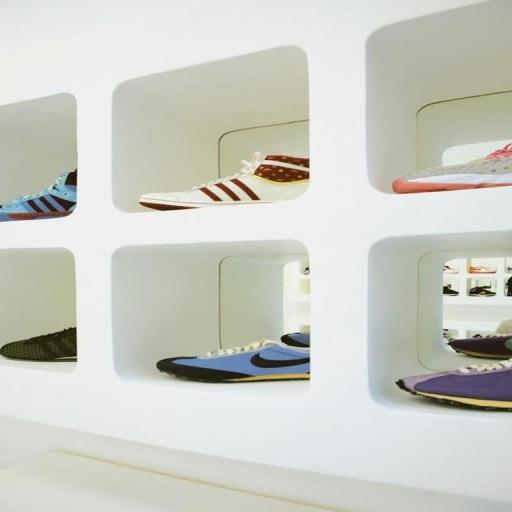shoe: (139, 153, 309, 210), (156, 339, 310, 383), (396, 359, 512, 411), (392, 144, 512, 194), (0, 170, 77, 222), (0, 328, 77, 362), (448, 333, 512, 360), (280, 332, 310, 347)
